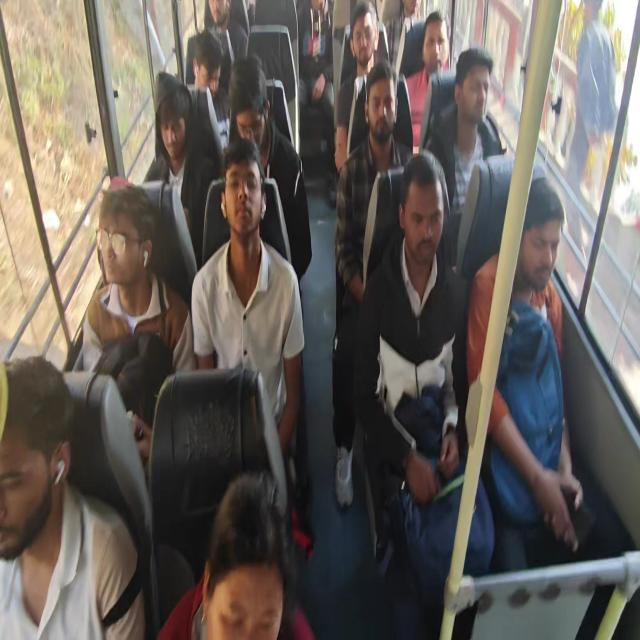person: (0, 329, 87, 563), (205, 441, 288, 640), (96, 192, 154, 284), (514, 180, 559, 289), (402, 171, 443, 269), (157, 66, 197, 159), (225, 153, 266, 237), (237, 64, 269, 151), (455, 53, 492, 121), (188, 36, 224, 100), (419, 14, 448, 72), (367, 77, 392, 138), (352, 14, 377, 66), (201, 0, 237, 24), (401, 0, 426, 18)
